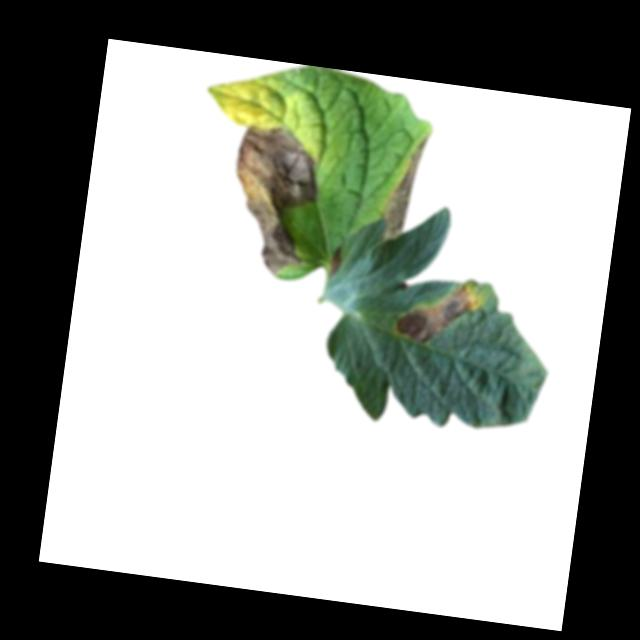Early_blight: (222, 121, 327, 281), (394, 274, 482, 350), (379, 133, 429, 245), (327, 245, 343, 277)
